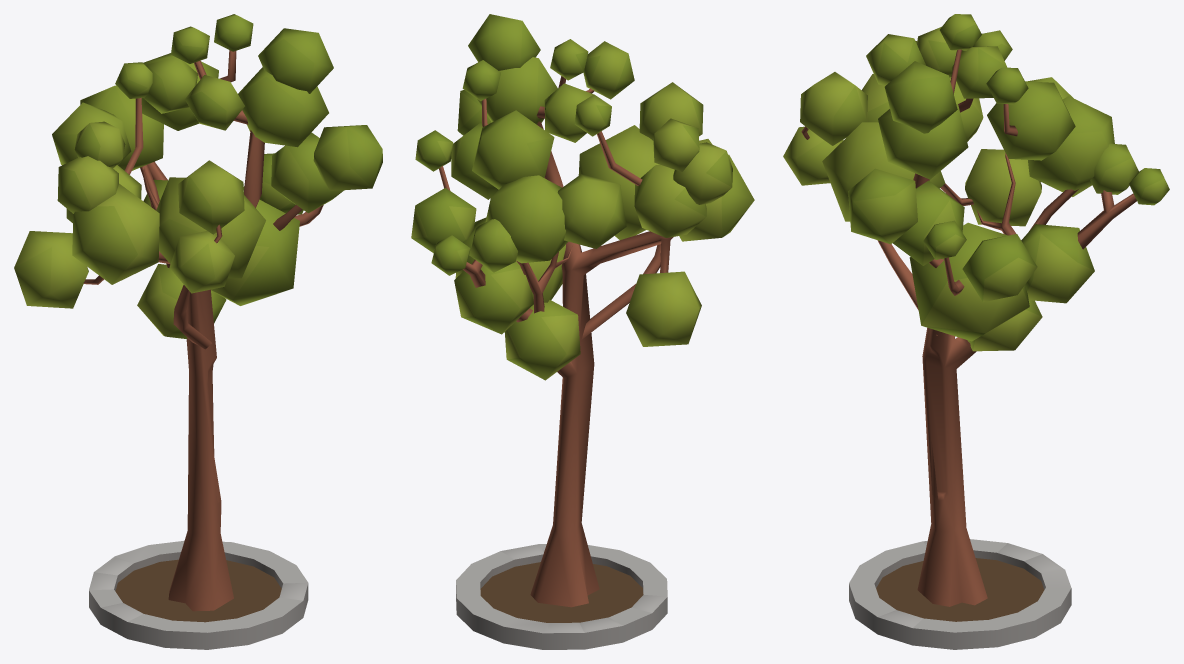
The model's file is Arbol2.fbx.
The picture shows the model from 3 angles, left to right: view 1: azimuth 30°, elevation 25°; view 2: azimuth 150°, elevation 25°; view 3: azimuth 270°, elevation 25°; orthographic projection. The views are drawn at different scales.
Visible parts, largest first — view 1: Tree_6A.007; view 2: Tree_6A.007; view 3: Tree_6A.007.
Part boxes in pixels (left/top/right/bottom): Tree_6A.007: left=14, top=14, right=382, bottom=649; Tree_6A.007: left=411, top=14, right=754, bottom=649; Tree_6A.007: left=783, top=14, right=1169, bottom=649.
Size of the model in its own units: 662 by 1153 by 690.
2 materials, 2 textured.
